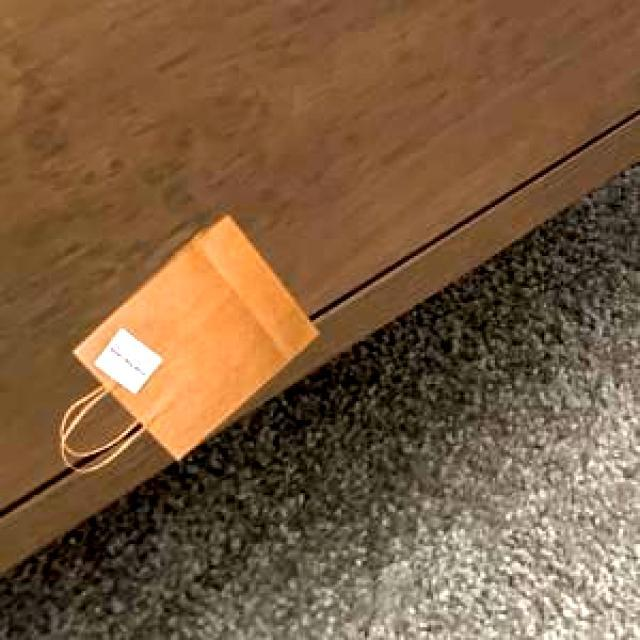Paper_Bag: (72, 212, 314, 458)
